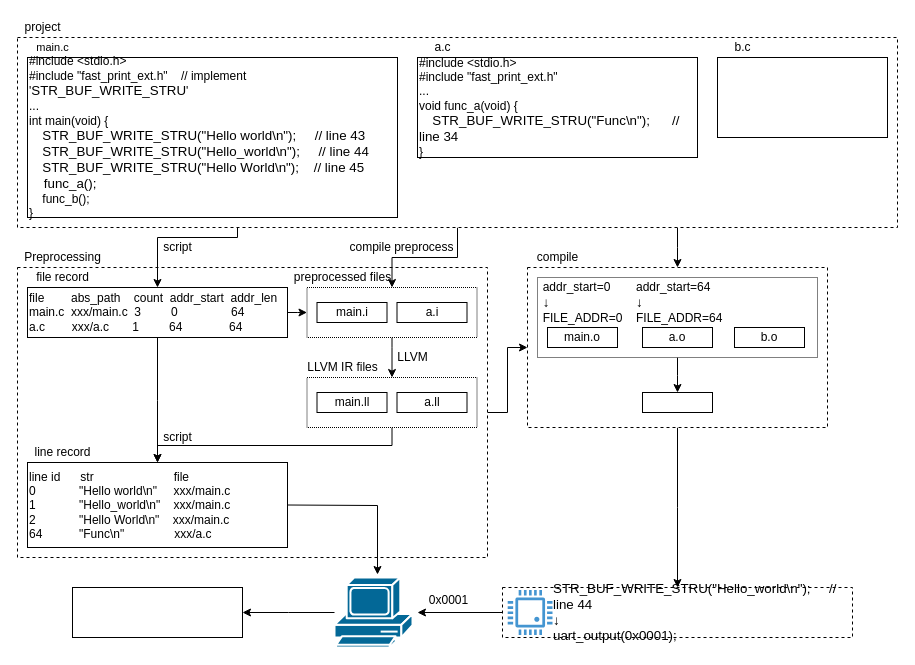
Some shapes in this 915 by 665 pixel diagram are drawn without their labels. The shapes that lost their labels are listed below. From the top down, each one's centre as x and y in pixels, then its label:
point 802,97: #include <stdio.h> ... void func_b(void) { printf("Hello world\n"); }
point 677,402: hello.bin
point 157,612: >... >Hello_world >...
